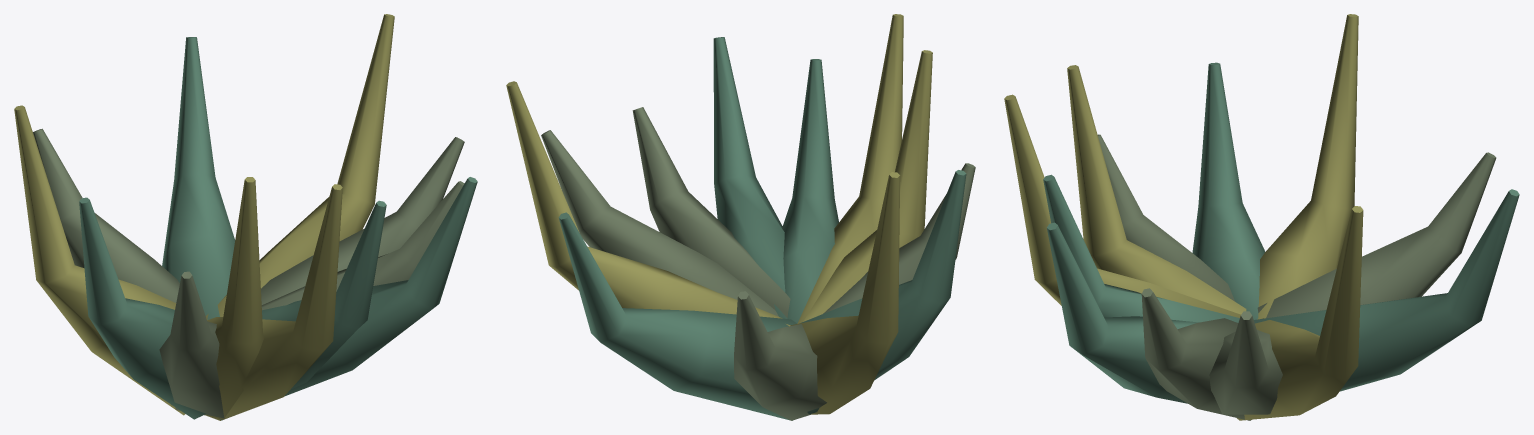
The model's file is agave.glb.
3 renders of one model, left to right at view 1: azimuth 30°, elevation 25°; view 2: azimuth 150°, elevation 25°; view 3: azimuth 270°, elevation 25°, orthographic. The views are drawn at different scales.
Visible parts, largest first — view 1: Agave; view 2: Agave; view 3: Agave.
Part boxes in pixels (box(x1,y1,x2,y2)): Agave: box(14, 14, 477, 420); Agave: box(506, 14, 975, 420); Agave: box(1004, 14, 1519, 420).
Bounding box in the file's own units: 1.01 × 0.7413 × 1.07.
